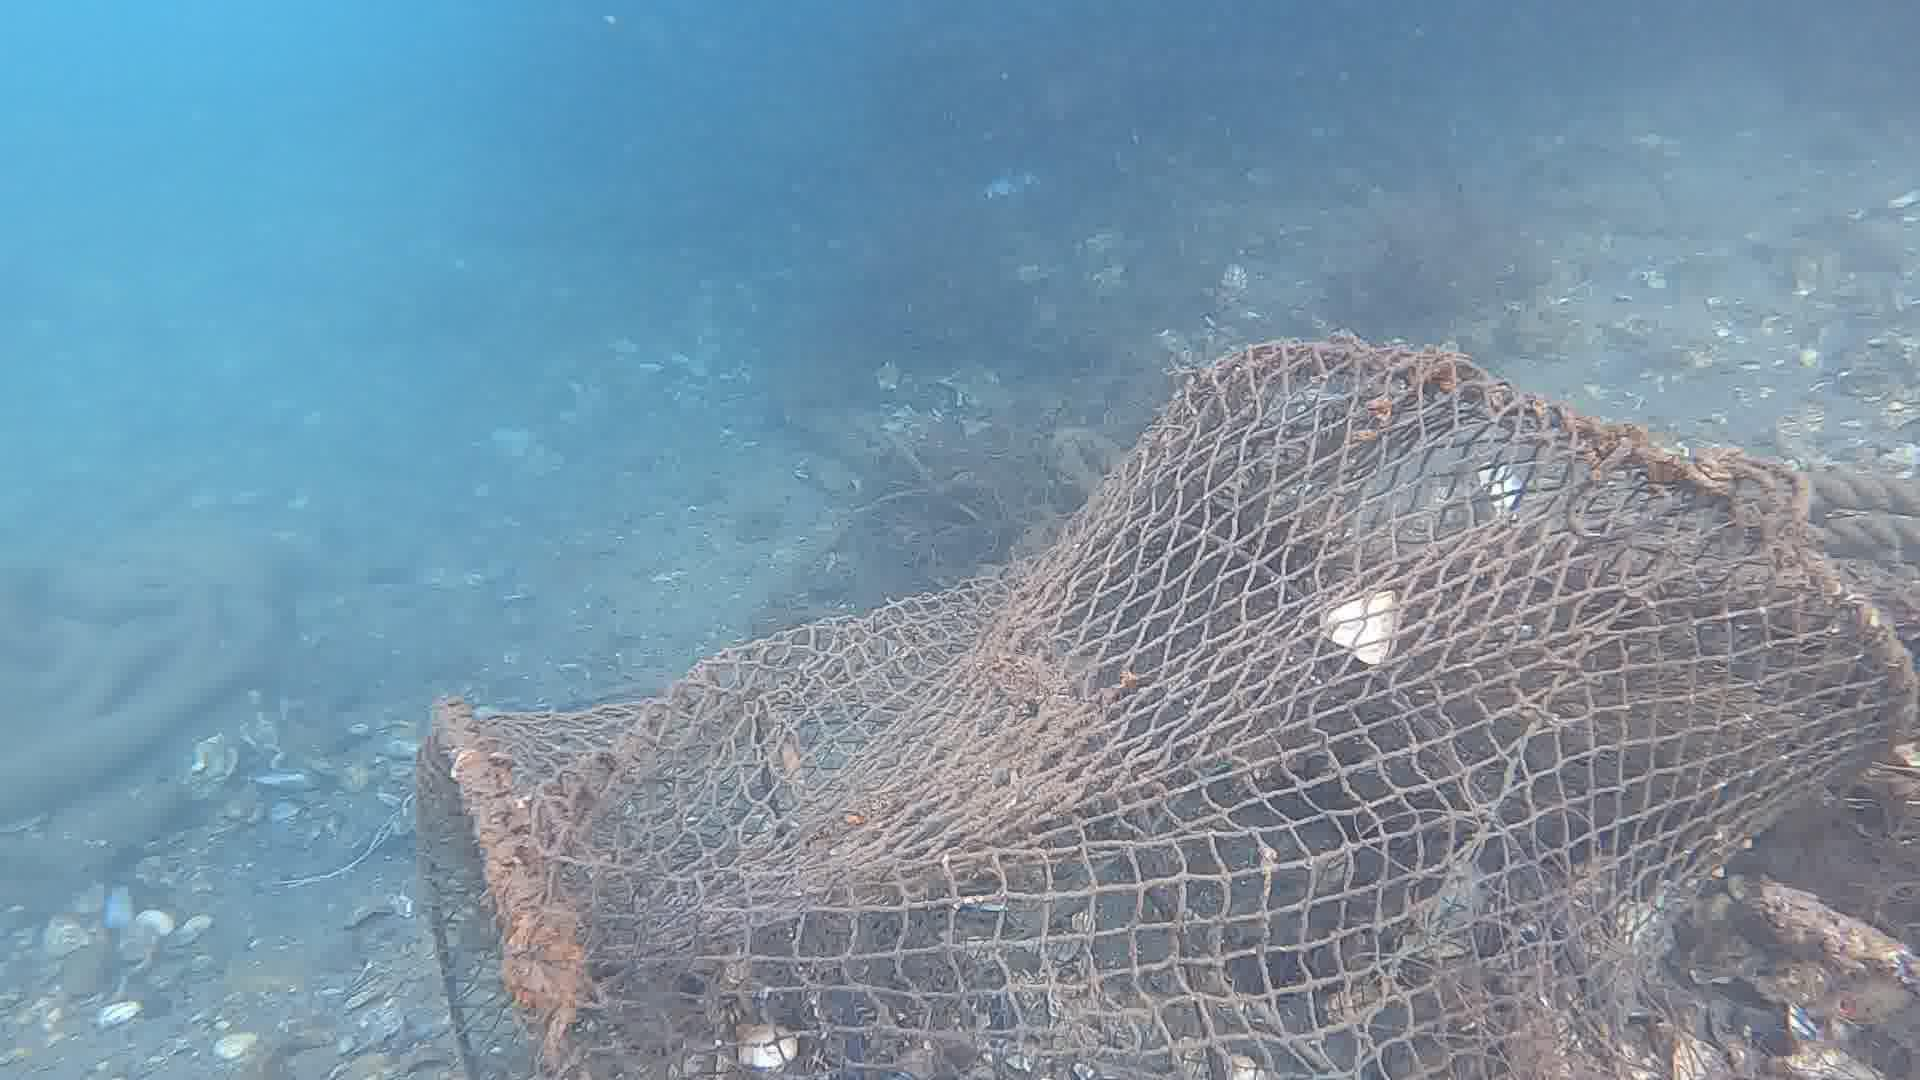bundle of ropes: (1799, 464, 1920, 562)
spring fish trap: (415, 338, 1920, 1080)
